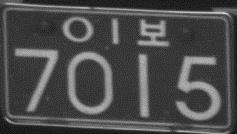0: (66, 51, 115, 116), (61, 15, 94, 42)
1: (125, 53, 165, 118), (101, 16, 128, 44)
5: (175, 55, 222, 121)
7: (13, 46, 58, 112)
보: (136, 18, 170, 46)
